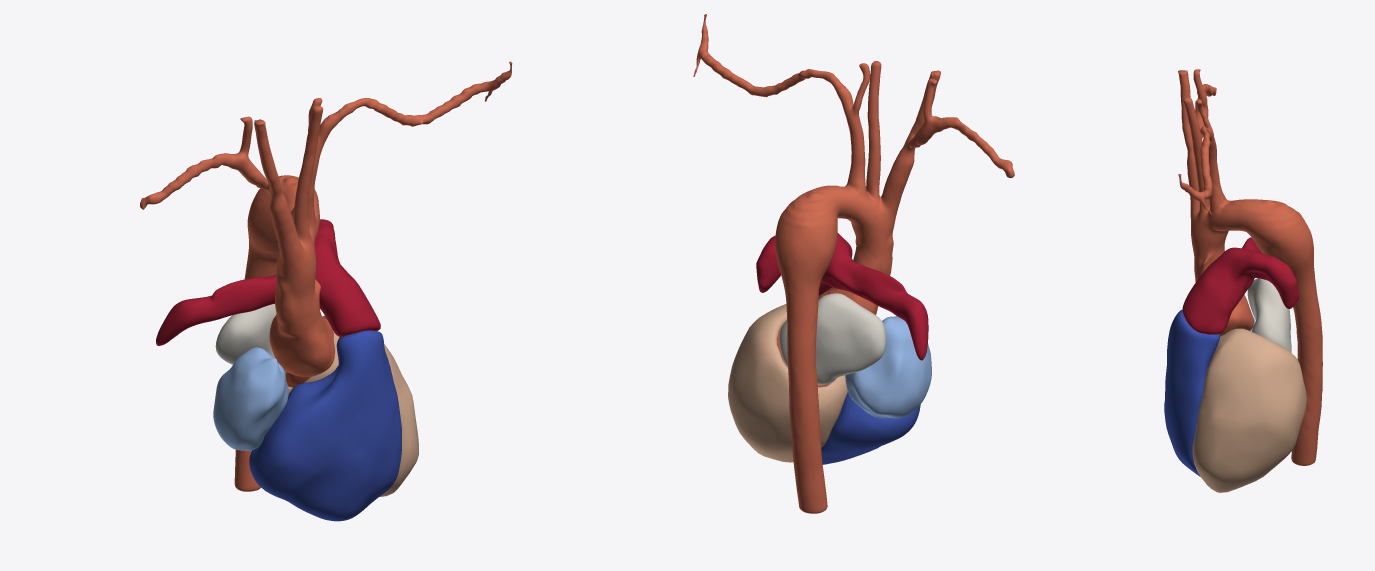
File: meshgrow_heart.glb
3 views of the same model, side by side, from view 1: azimuth 30°, elevation 25°; view 2: azimuth 150°, elevation 25°; view 3: azimuth 270°, elevation 25° (orthographic). The views are drawn at different scales.
Visible parts, largest first — view 1: MeshGrow model; view 2: MeshGrow model; view 3: MeshGrow model.
Boxes of the visible parts, x1=… form: MeshGrow model: x1=140, y1=61, x2=512, y2=521; MeshGrow model: x1=693, y1=14, x2=1014, y2=513; MeshGrow model: x1=1164, y1=69, x2=1322, y2=492.
Size of the model in its own units: 0.2641 by 0.2745 by 0.1557.
